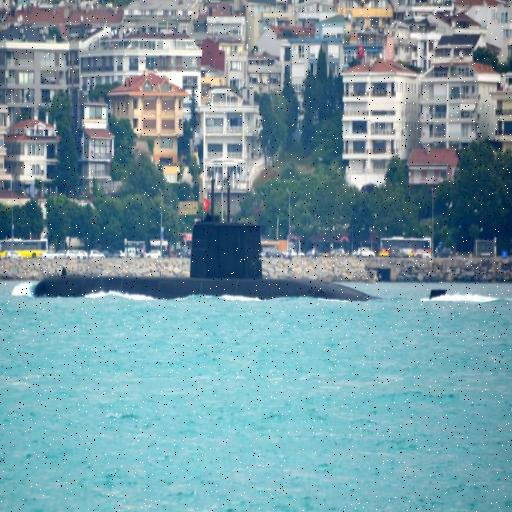submarine: (36, 178, 454, 302)
